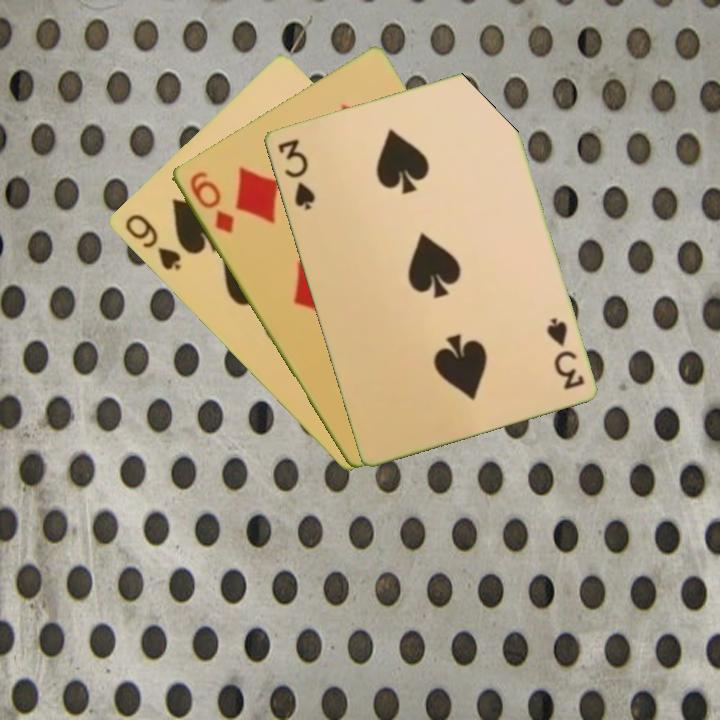3s: (542, 313, 587, 392), (274, 135, 318, 213)
6d: (185, 167, 237, 237)
9s: (121, 210, 184, 273)
